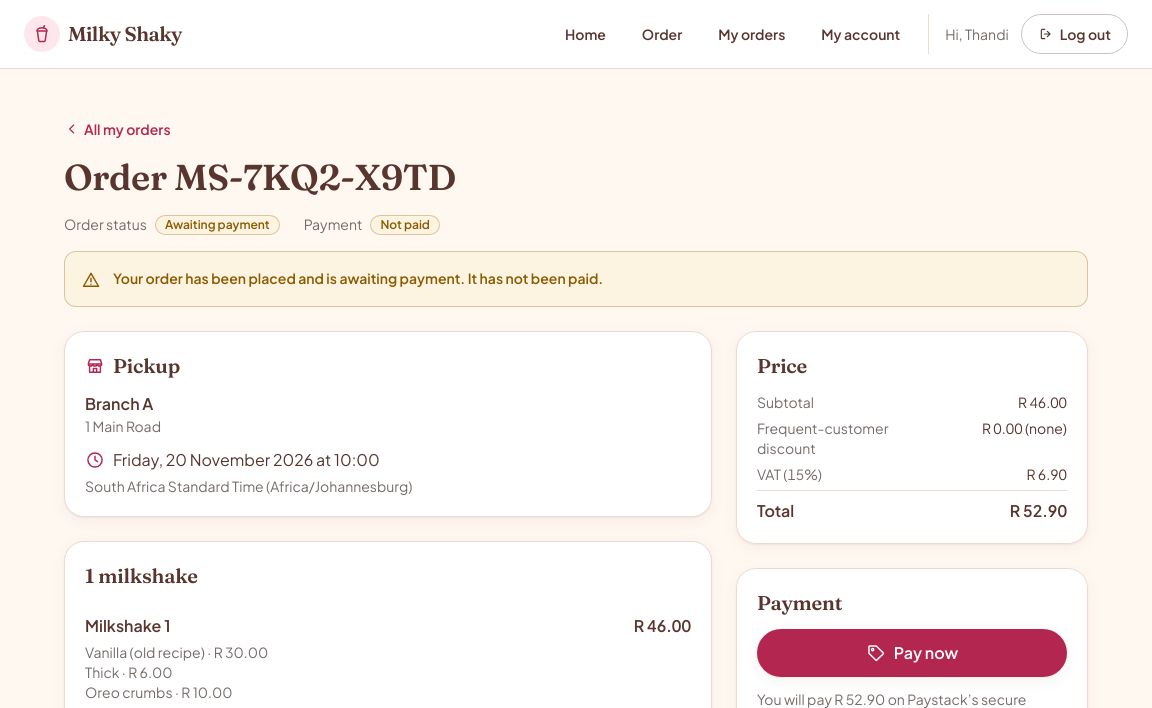
Test case: paying for an order › never sends the browser to an address that is not Paystack’s checkout
Click the button "Pay now": (912, 653) [757,629,1067,677]
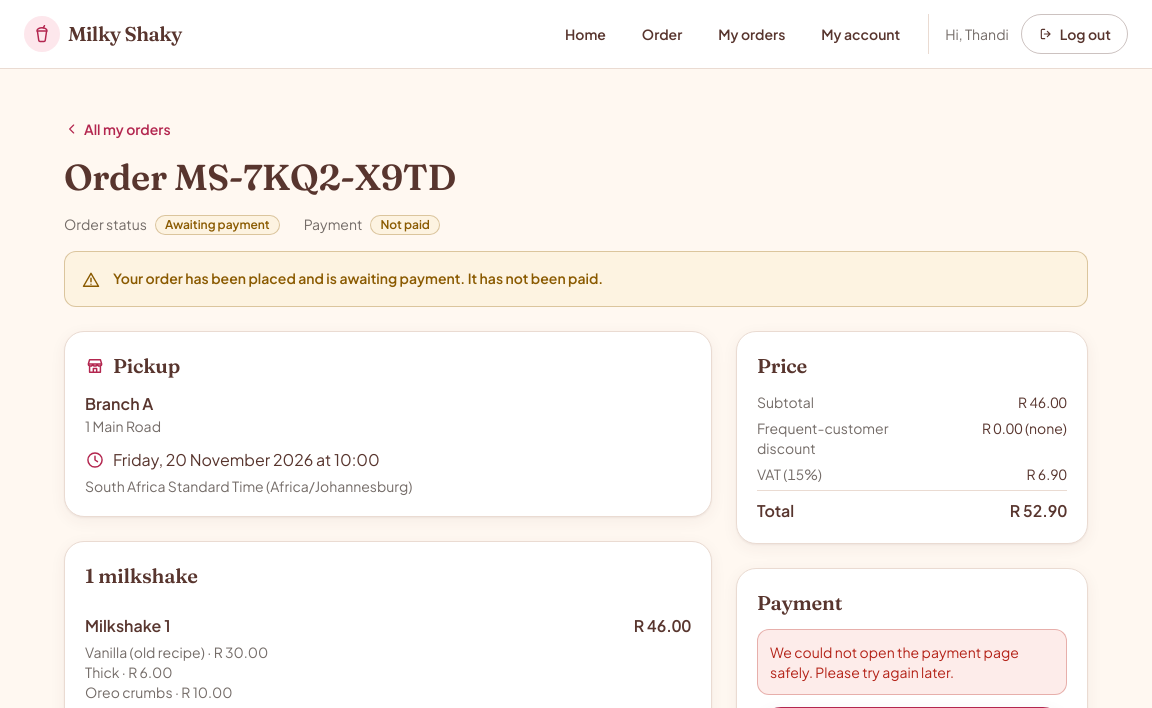
Check: the message reads "We could not open the payment page safely. Please try again later.", box [770,643,1019,681]
